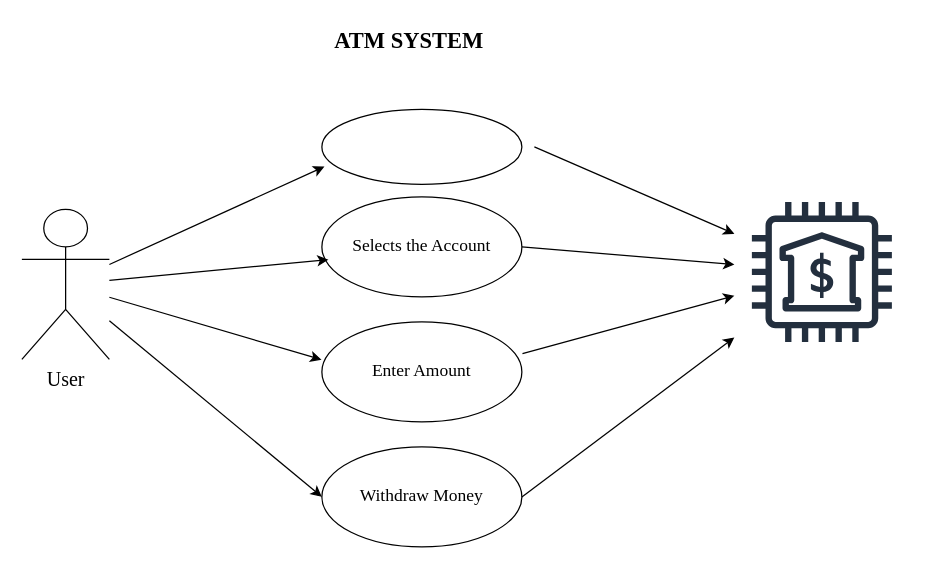
This 931x569 diagram has some shape labels left out. Here are the shapes that lost their labels. From the top down, the box of each, then its label:
(321, 108, 522, 184): Enter Pin
(733, 183, 909, 359): Bank System
